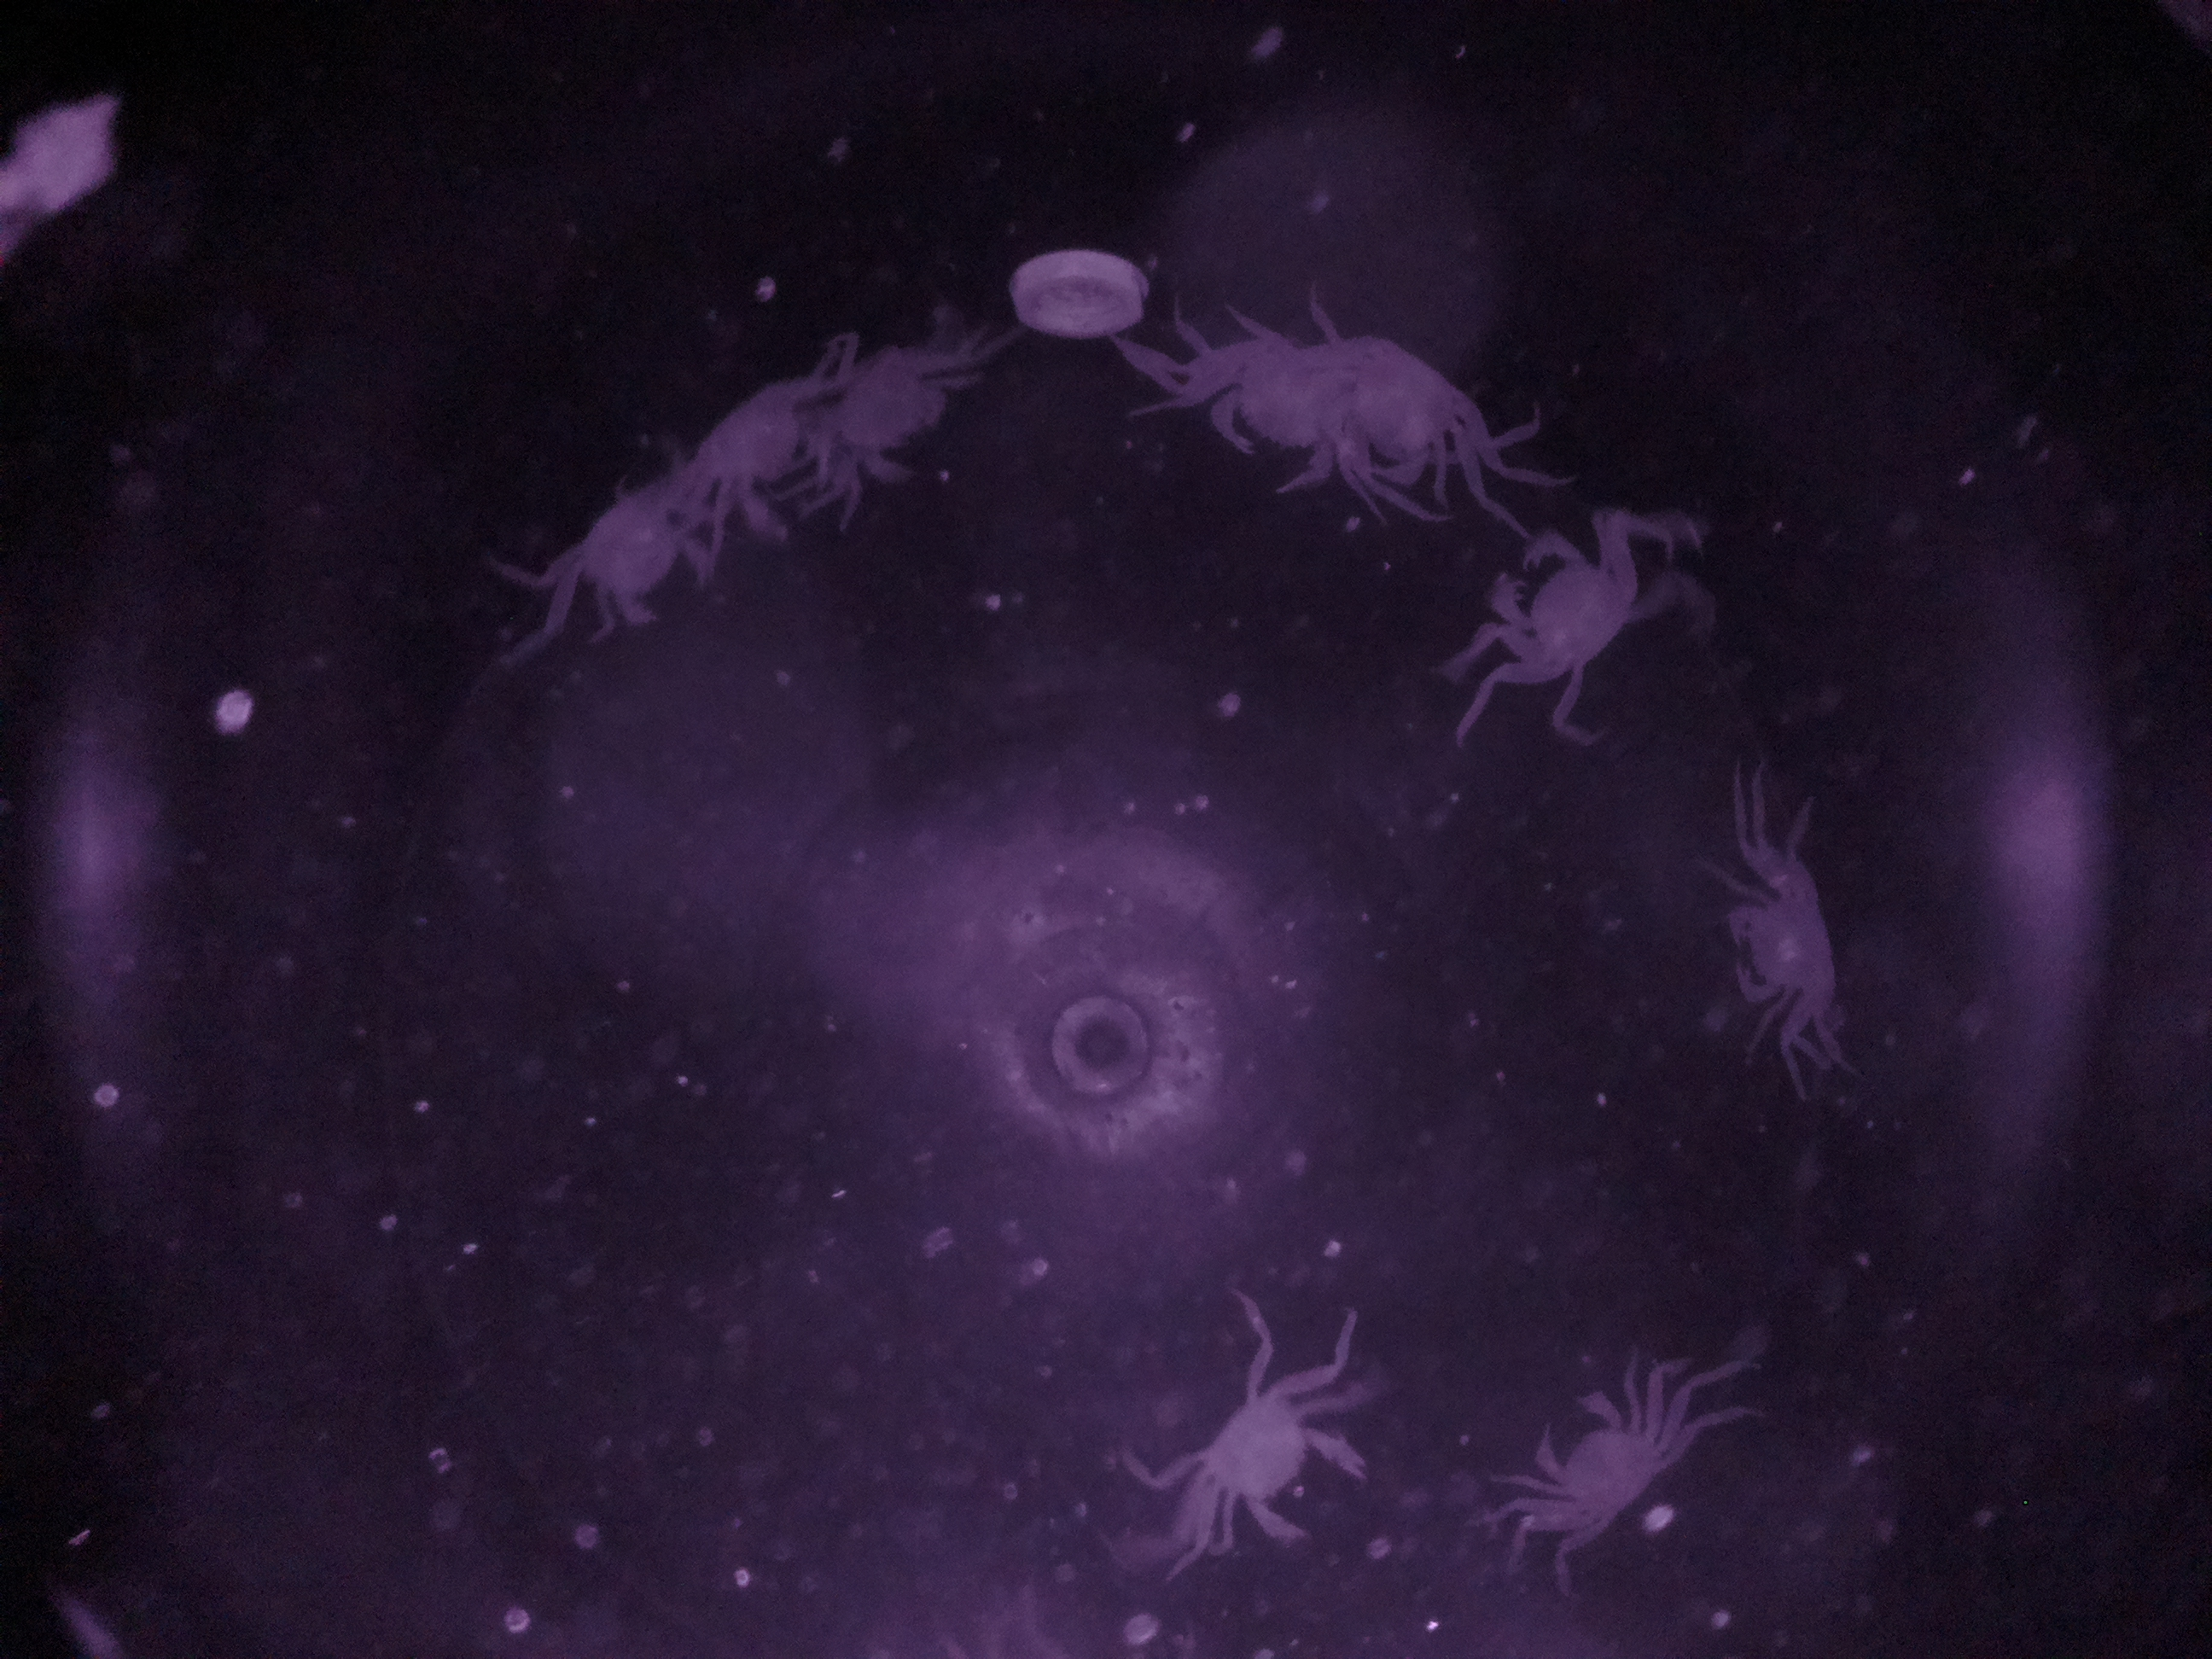Crab: (1467, 511, 1677, 718), (1172, 1356, 1376, 1556), (1505, 1359, 1684, 1556), (1710, 854, 1867, 1051)
